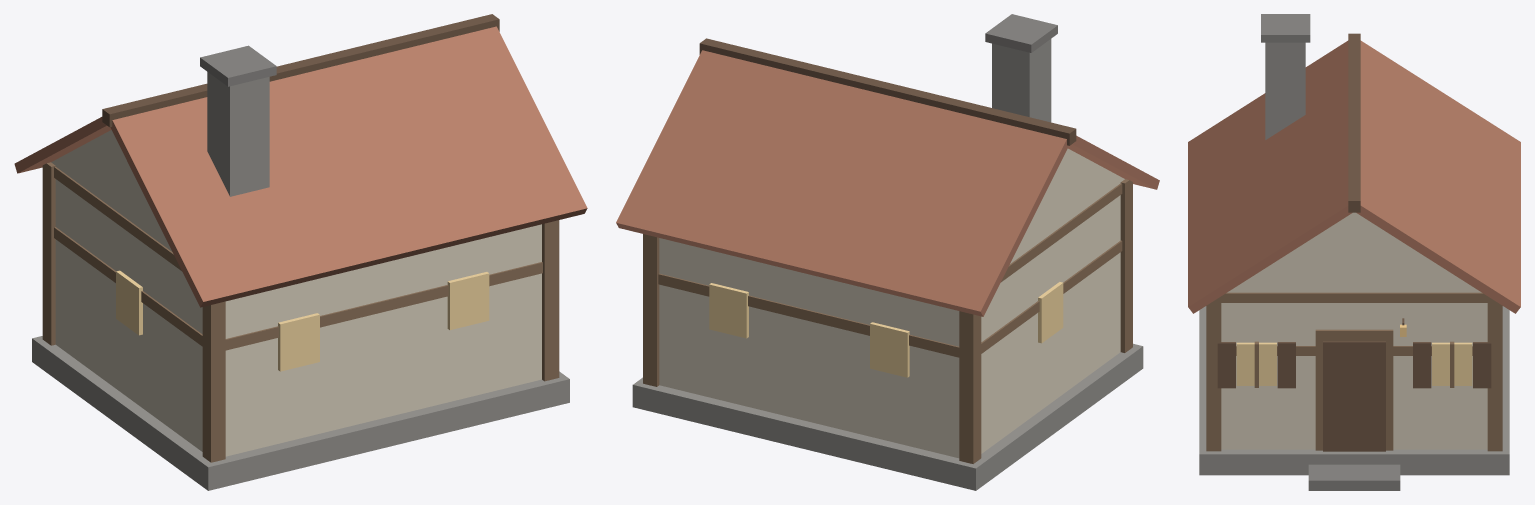
File: SM_House.fbx
3 renders of one model, left to right at view 1: azimuth 30°, elevation 25°; view 2: azimuth 150°, elevation 25°; view 3: azimuth 270°, elevation 25°, orthographic. The views are drawn at different scales.
Parts seen in each view (by area): view 1: SM_House; view 2: SM_House; view 3: SM_House.
Part boxes in pixels (<box>): SM_House: <box>14,14,587,490</box>; SM_House: <box>616,14,1159,490</box>; SM_House: <box>1188,14,1520,490</box>.
Bounding box in the file's own units: 7.3 × 6.32 × 5.79.
